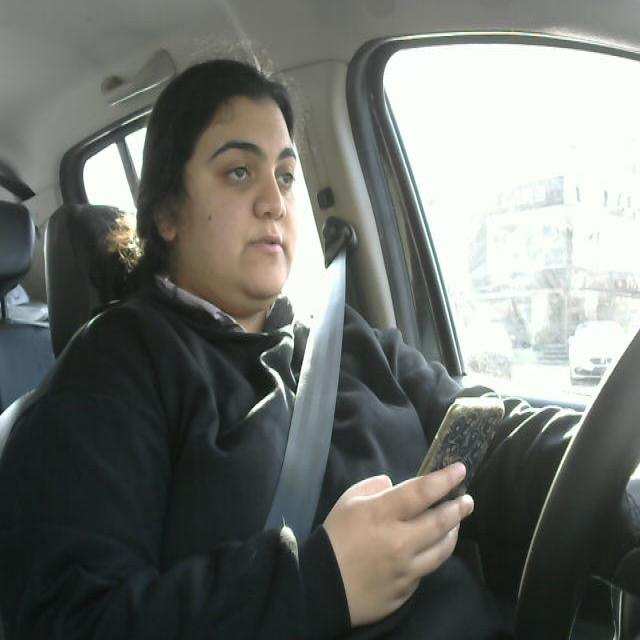mobile use: (419, 392, 509, 502)
